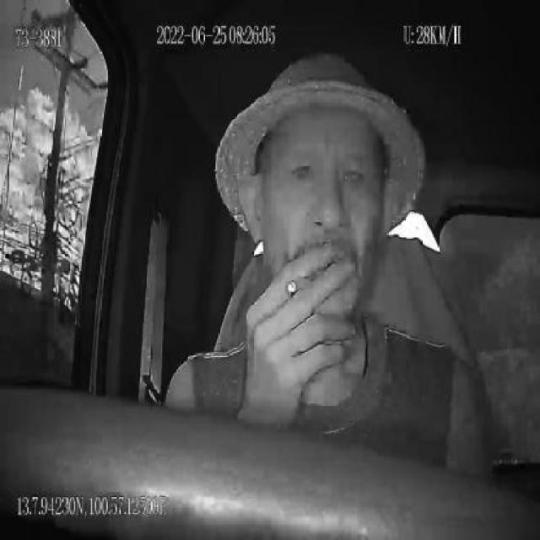smoking: (285, 271, 320, 300)
